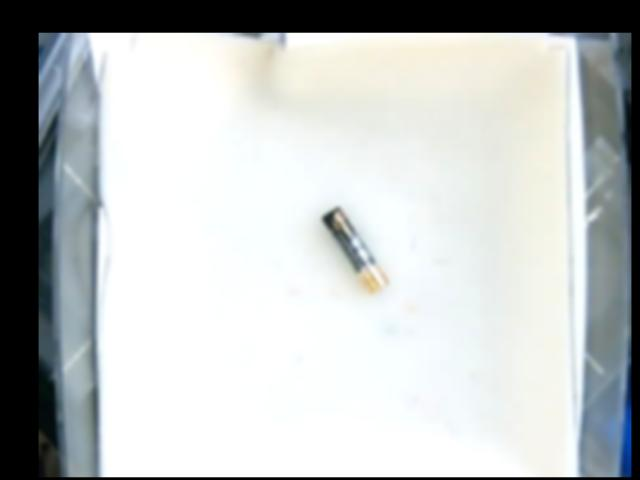Battery: (321, 205, 386, 292)
